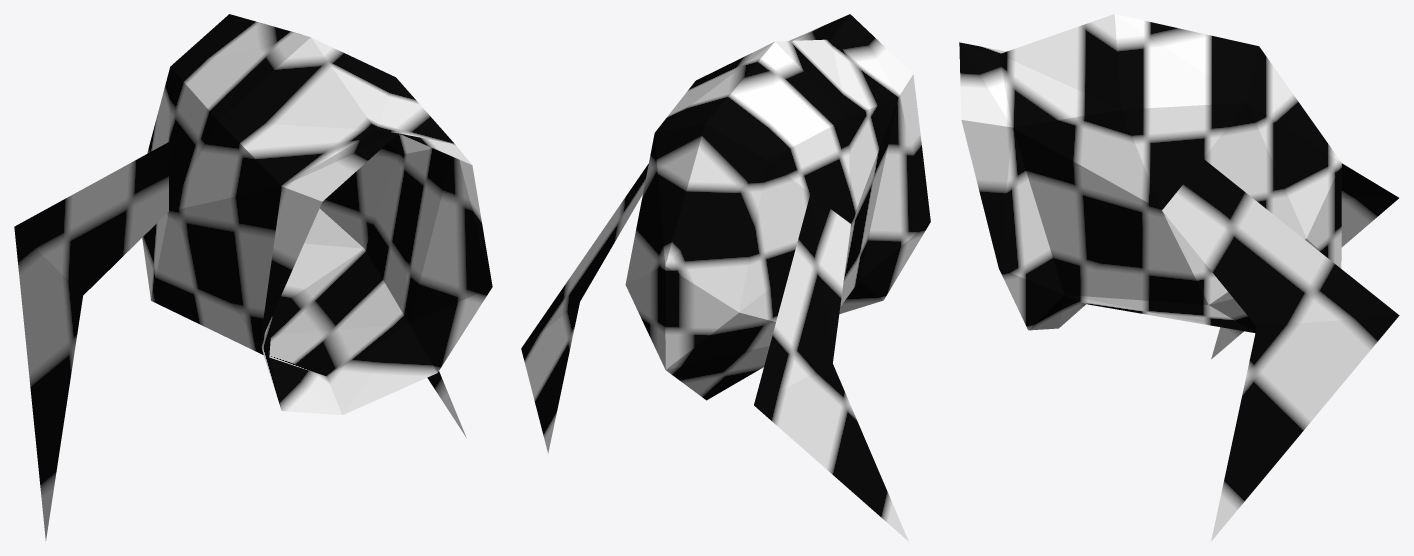
Rendered from initarhl1.dae.
3 views of the same model, side by side, from view 1: azimuth 30°, elevation 25°; view 2: azimuth 150°, elevation 25°; view 3: azimuth 270°, elevation 25° (orthographic). The views are drawn at different scales.
Visible parts, largest first — view 1: armor; view 2: armor; view 3: armor.
Boxes of the visible parts, x1,y1,x2,y2 form: armor: (14, 14, 492, 540); armor: (521, 14, 930, 541); armor: (959, 14, 1399, 541).
Bounding box in the file's own units: 1.09 × 1.11 × 1.22.
Materials: 1 (1 with a texture image).
